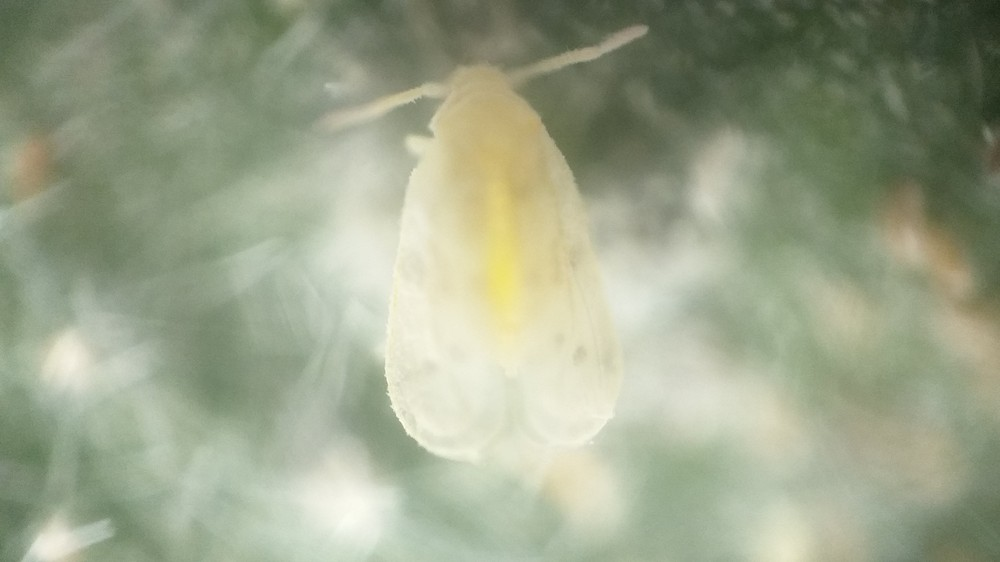Mosca Blanca: (323, 19, 688, 466)
